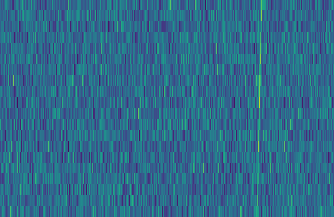signal: (254, 0, 267, 217)
